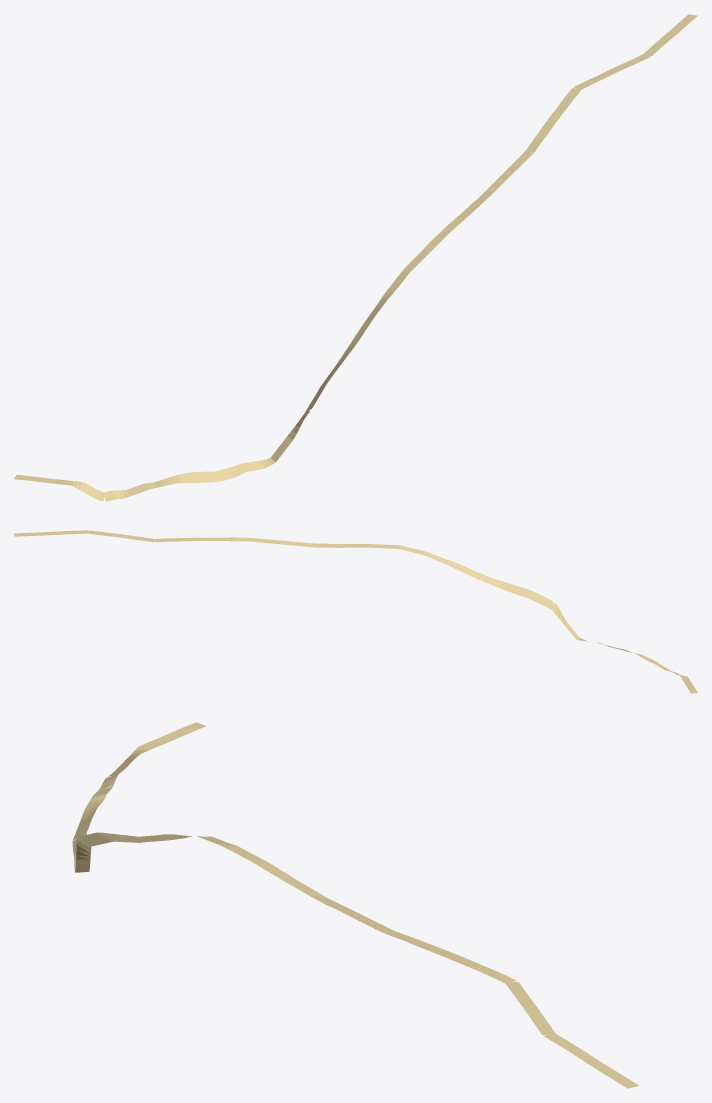
File: Trail_15.glb
3 renders of one model, top to bottom at view 1: azimuth 30°, elevation 25°; view 2: azimuth 150°, elevation 25°; view 3: azimuth 270°, elevation 25°, orthographic. The views are drawn at different scales.
Parts seen in each view (by area): view 1: Trail_15; view 2: Trail_15; view 3: Trail_15.
Part boxes in pixels (bbox=[...]): Trail_15: bbox=[14, 14, 697, 501]; Trail_15: bbox=[14, 530, 697, 693]; Trail_15: bbox=[72, 722, 638, 1088].
Bounding box in the file's own units: 163 × 28.93 × 69.46.
